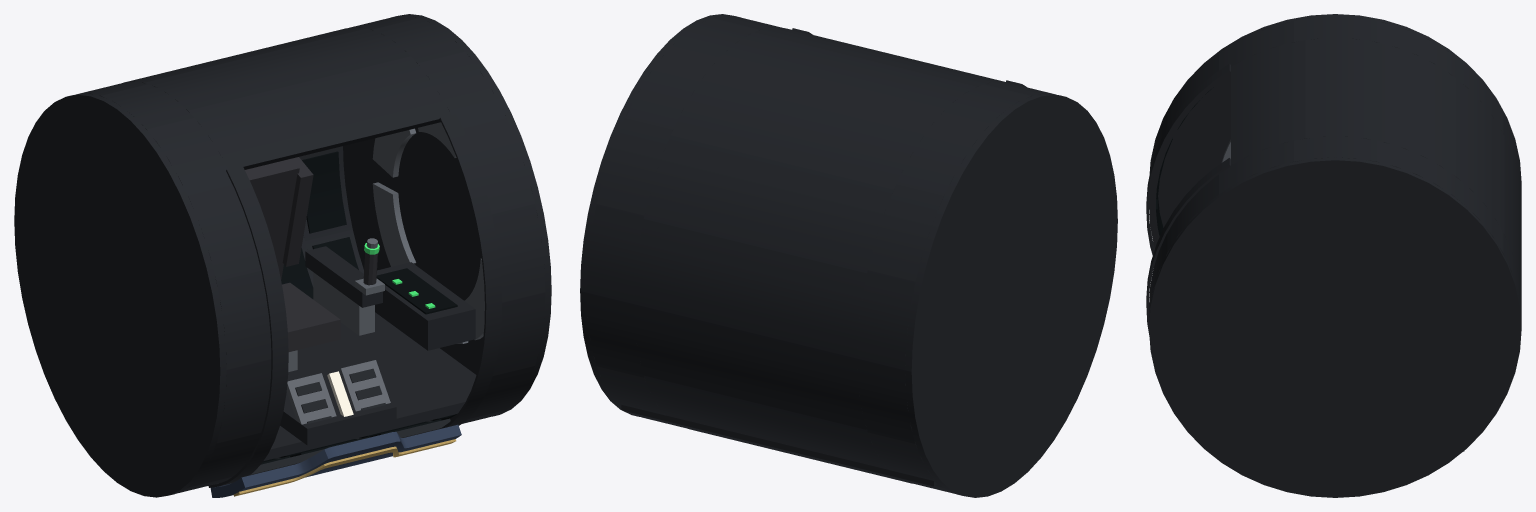
Rendered from HubMech_Cockpit.gltf.
The picture shows the model from 3 angles, left to right: view 1: azimuth 30°, elevation 25°; view 2: azimuth 150°, elevation 25°; view 3: azimuth 270°, elevation 25°; orthographic projection. The views are drawn at different scales.
Parts seen in each view (by area): view 1: HubMech_Cockpit; view 2: HubMech_Cockpit; view 3: HubMech_Cockpit.
Boxes of the visible parts, <box> form: HubMech_Cockpit: <box>14,14,551,497</box>; HubMech_Cockpit: <box>580,14,1117,497</box>; HubMech_Cockpit: <box>1146,14,1521,497</box>.
Bounding box in the file's own units: 2.08 × 2.25 × 2.26.
